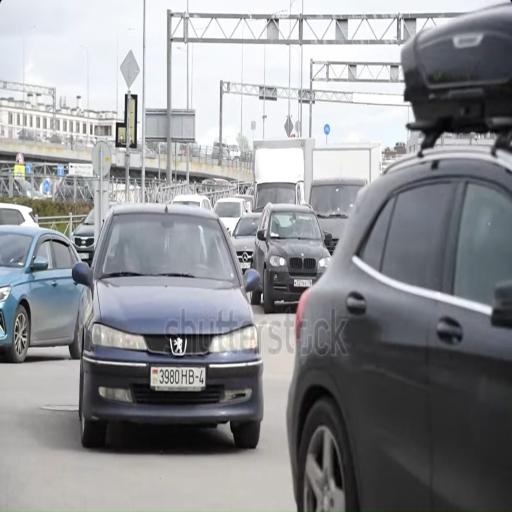License plates: (151, 366, 205, 391), (294, 280, 312, 287), (79, 253, 89, 260), (241, 263, 250, 269)
